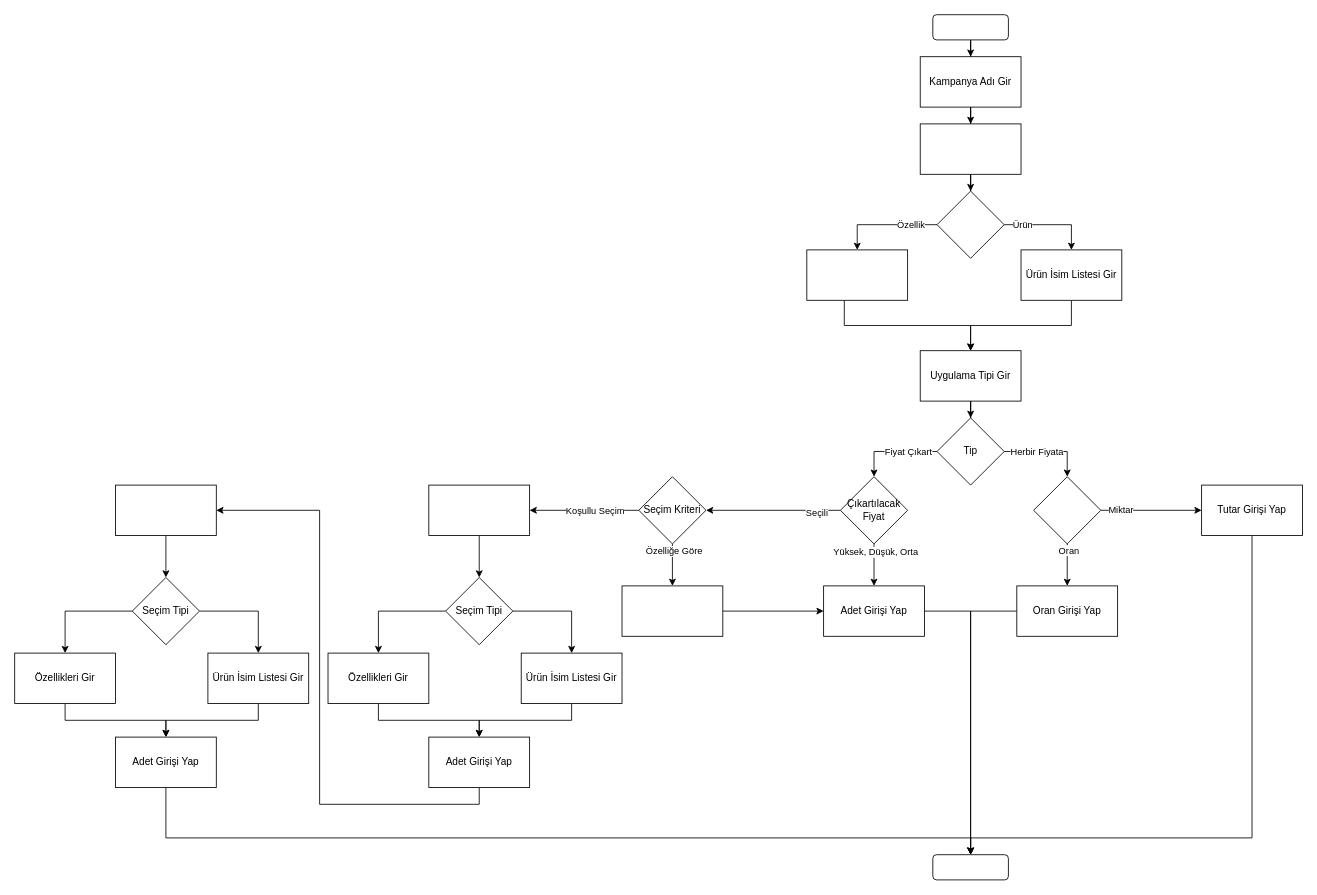
The diagram is 1317 pixels wide and 895 high, and some of its shapes have lost their labels. Here are the shapes that lost their labels. From the top down, the centre of each, then its label:
At (970,27): "Başla".
At (970,148): "Ürün Filtresi Gir".
At (970,224): "Filtre".
At (857,274): "Ürün Özelliklerini Gir".
At (165,510): "Çıkartılacak Ürün".
At (479,510): "Olması Gereken Ürün".
At (1067,510): "Kriter".
At (672,610): "Özelliklerin Girişini Yap".
At (970,867): "Bitir".
